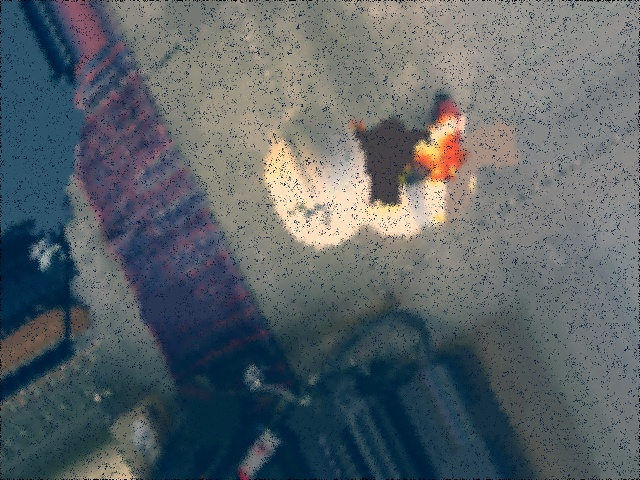three: (287, 195, 330, 240)
